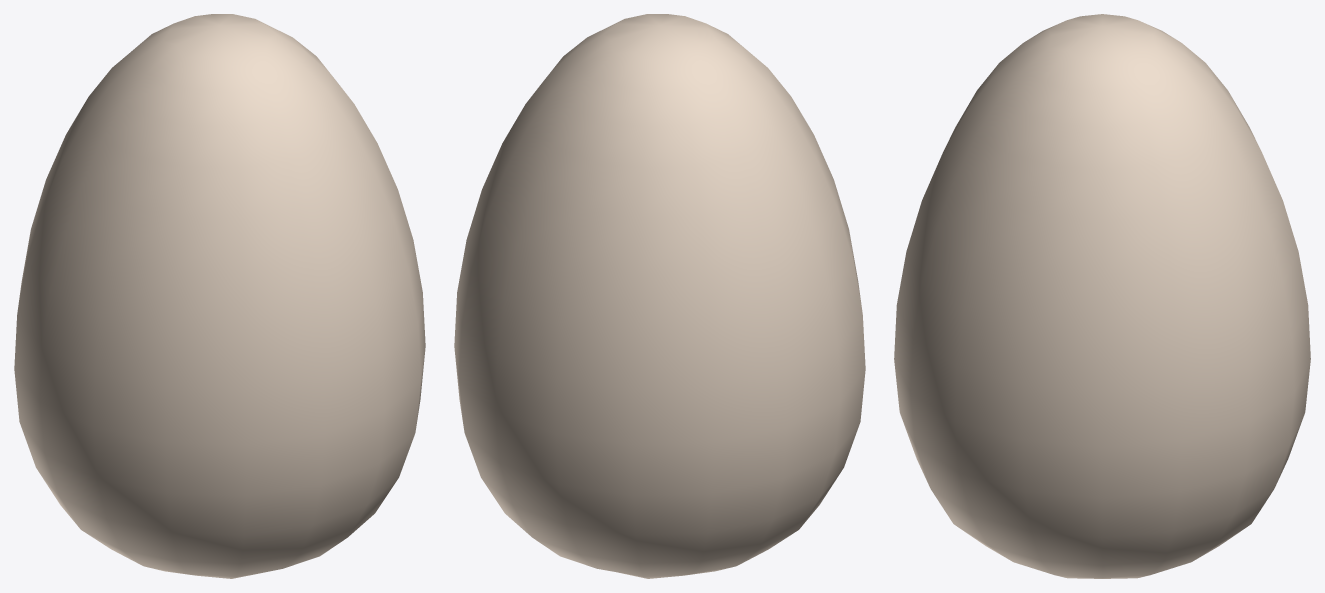
File: Egg_textured.fbx
3 renders of one model, left to right at view 1: azimuth 30°, elevation 25°; view 2: azimuth 150°, elevation 25°; view 3: azimuth 270°, elevation 25°, orthographic.
Visible parts, largest first — view 1: Egg; view 2: Egg; view 3: Egg.
Part boxes in pixels (<box>): Egg: <box>14,14,425,578</box>; Egg: <box>454,14,865,578</box>; Egg: <box>894,14,1310,578</box>.
Size of the model in its own units: 1.36 by 1.9 by 1.36.
